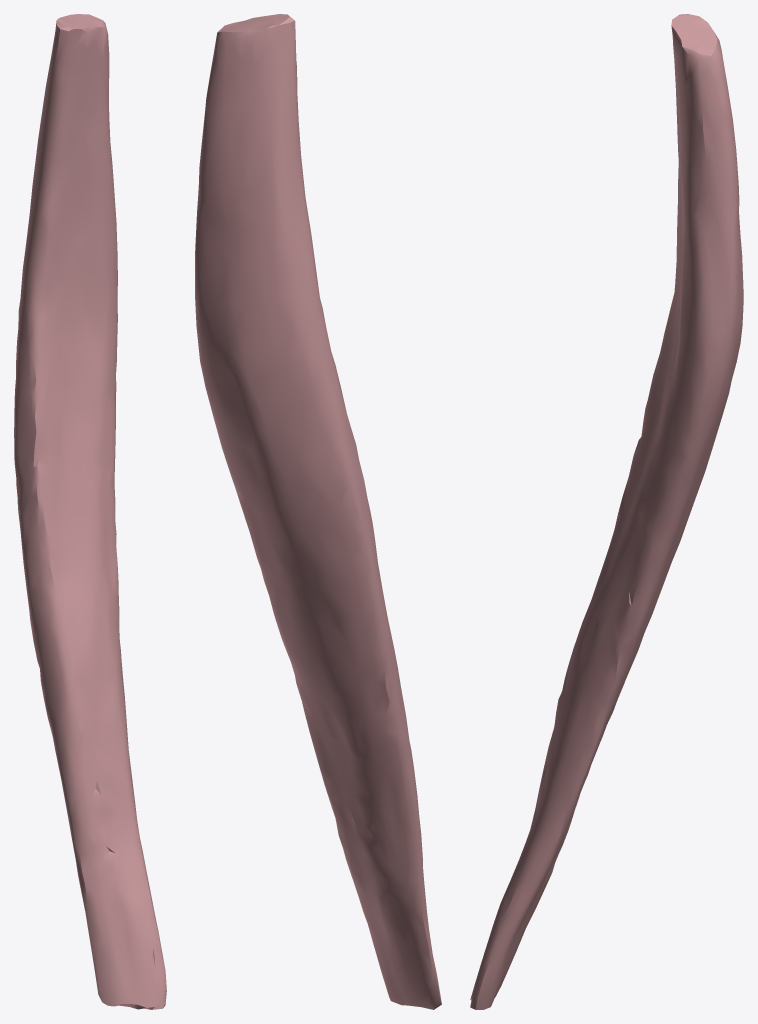
File: fma297780_mm1870.glb
3 views of the same model, side by side, from view 1: azimuth 30°, elevation 25°; view 2: azimuth 150°, elevation 25°; view 3: azimuth 270°, elevation 25° (orthographic). The views are drawn at different scales.
Visible parts, largest first — view 1: FMA297780_MM1870; view 2: FMA297780_MM1870; view 3: FMA297780_MM1870.
Part boxes in pixels (left/top/right/bottom): FMA297780_MM1870: left=14, top=14, right=166, bottom=1009; FMA297780_MM1870: left=195, top=14, right=441, bottom=1009; FMA297780_MM1870: left=470, top=14, right=743, bottom=1009.
Bounding box in the file's own units: 0.0266 × 0.188 × 0.0469.
